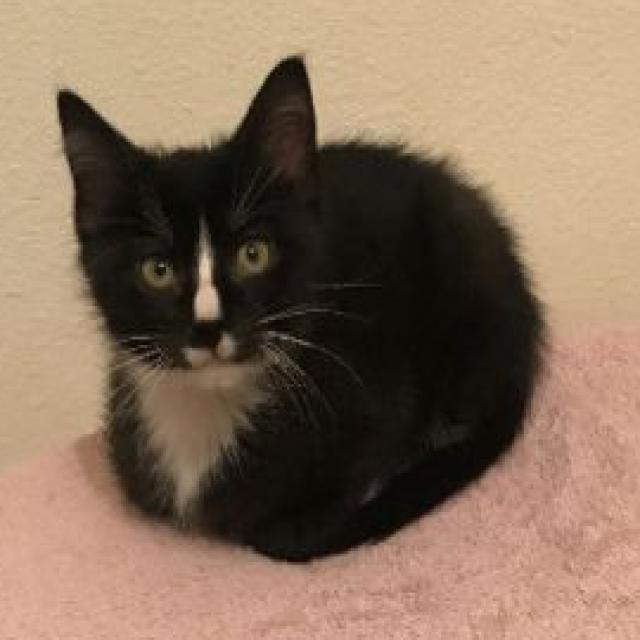Tuxedo: (53, 51, 554, 570)
